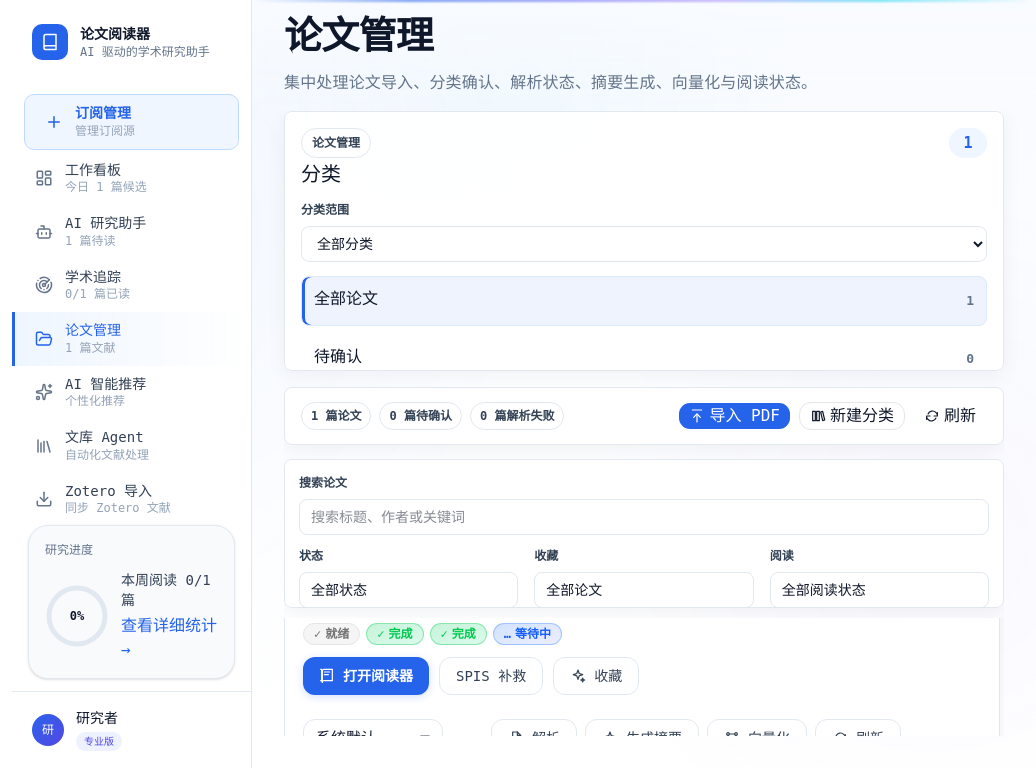
it: library detail wires favorite and reading-state updates through API wrappers
(page scrolled)
Click the button with aria-label "收藏论文": [596, 676] box [553,657,639,695]
(page scrolled)
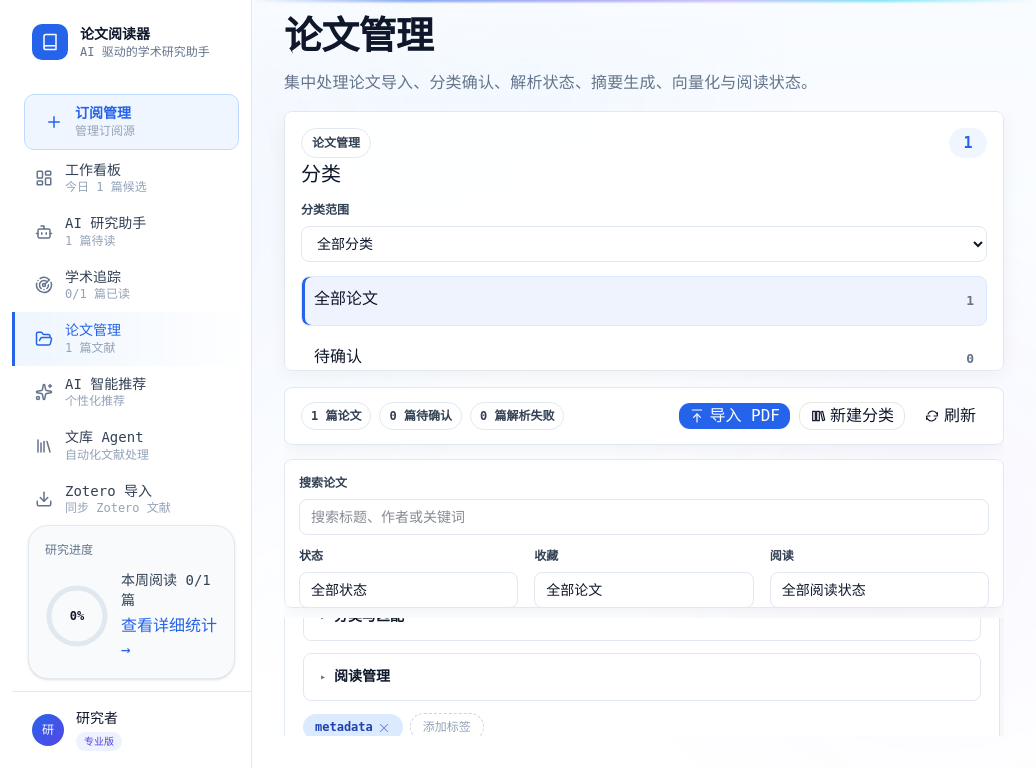
// Expand "阅读管理" section to access reading state controls
Click the heading "阅读管理": [362, 676] box [334,668,390,684]
(page scrolled)
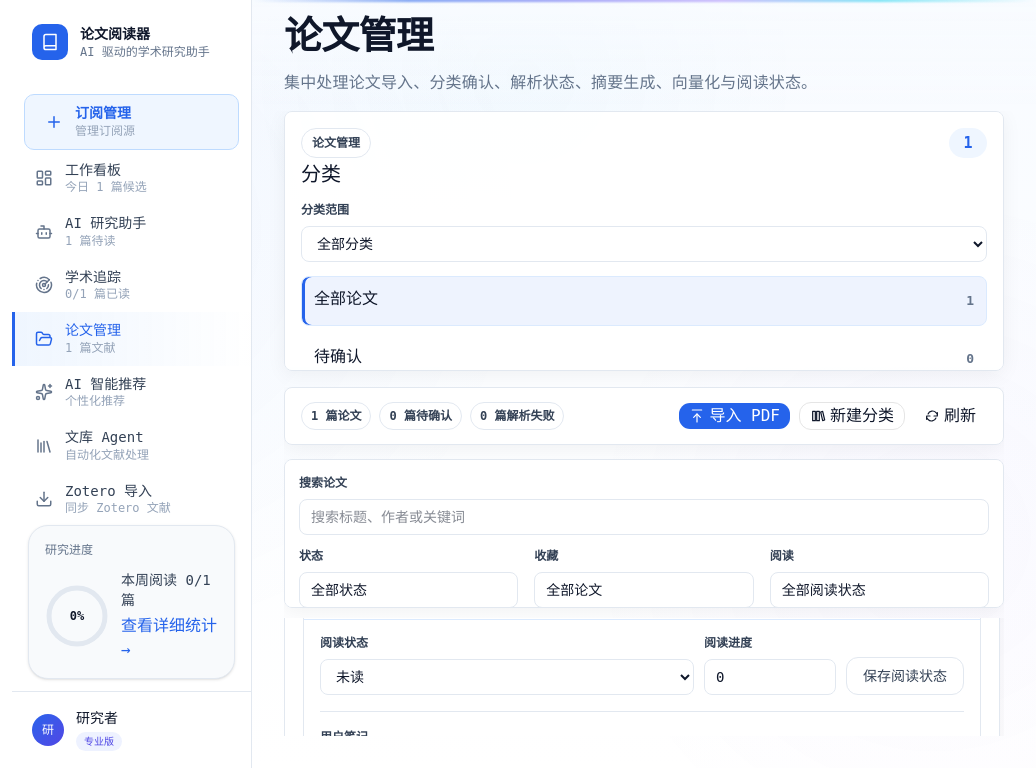
Select "阅读中" in the dropdown labelled "阅读状态": [507, 677] box [320,659,694,695]
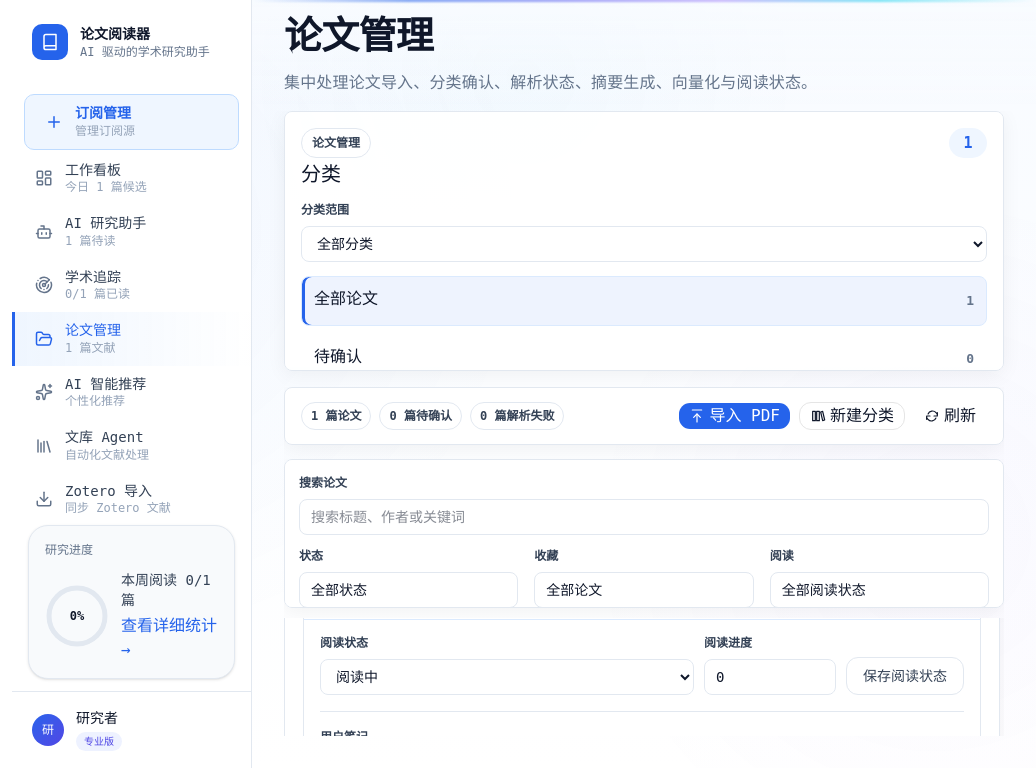
Replace the text in the number field labelled "阅读进度" with "45": [770, 677] box [704,659,836,695]
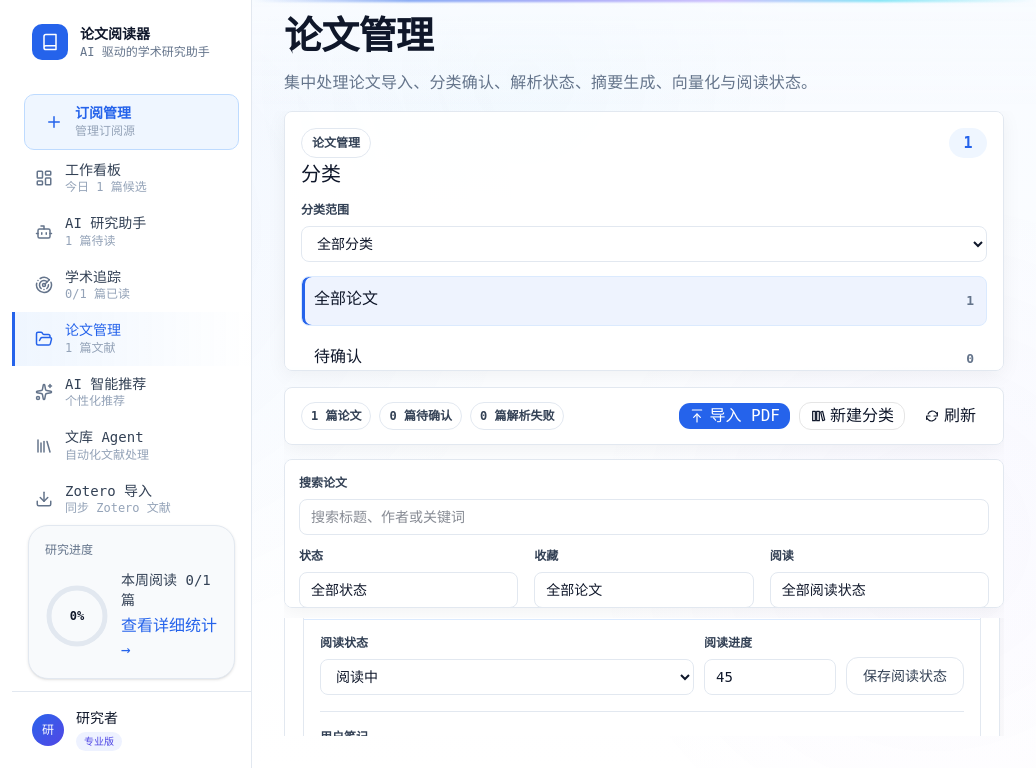
Click the button "保存阅读状态": [905, 676] box [846,657,964,695]
(page scrolled)
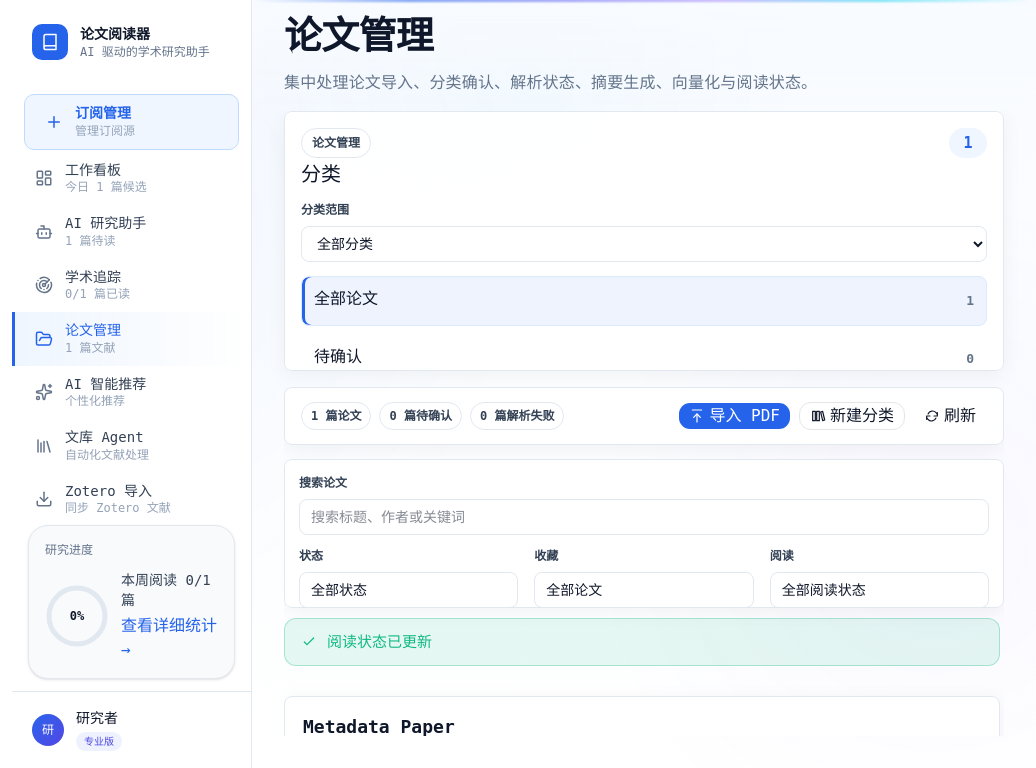
Now the text "阅读状态已更新" is shown, box [327,630,432,653]
